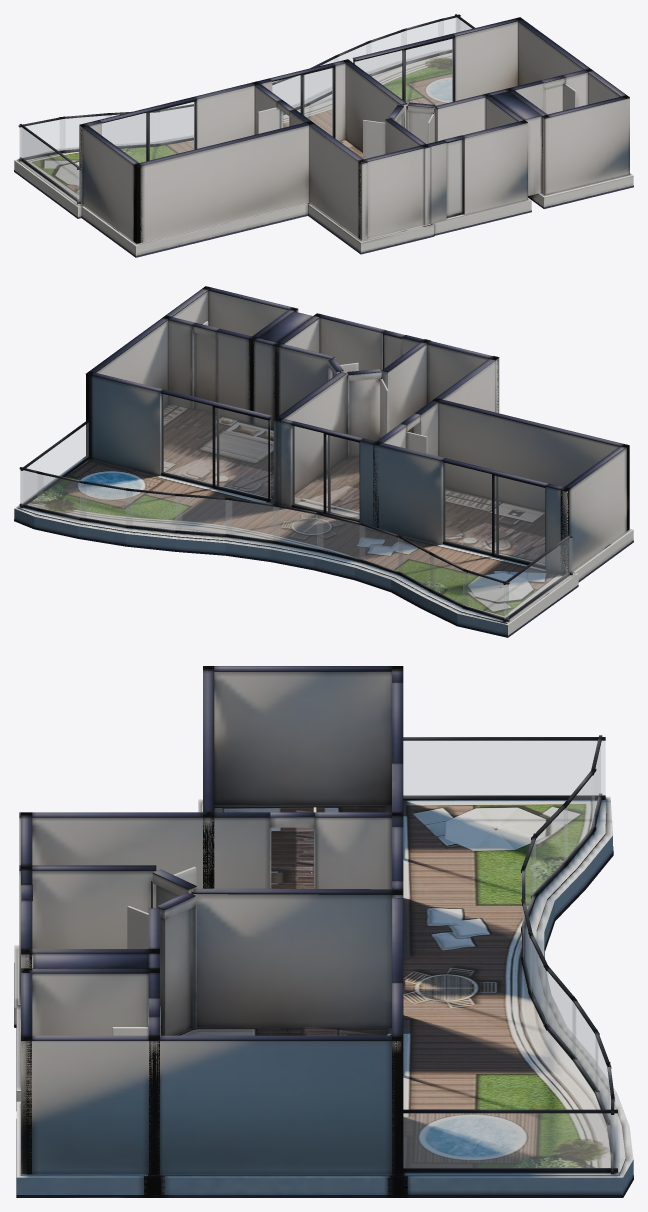
3 renders of one model, top to bottom at view 1: azimuth 30°, elevation 25°; view 2: azimuth 150°, elevation 25°; view 3: azimuth 270°, elevation 25°, orthographic. The views are drawn at different scales.
Visible parts, largest first — view 1: plan, glass2_m, glass0_m, glass1_m, railg14_m, railg0_m, railg2_m, railg3_m, glass3_m, railg12_m, railg11_m, railg1_m (+4 smaller); view 2: plan, glass2_m, glass0_m, glass1_m, railg14_m, railg13_m, railg9_m, railg10_m, railg8_m, railg11_m, railg7_m, railg12_m (+6 smaller); view 3: plan, railg13_m, railg14_m, railg2_m, railg1_m, railg9_m, railg10_m, railg8_m.
Boxes of the visible parts, box(x1,y1,x2,y2) form: plan: box(14, 14, 633, 257); glass2_m: box(354, 39, 452, 105); glass0_m: box(102, 102, 194, 162); glass1_m: box(272, 68, 332, 136); railg14_m: box(20, 127, 81, 201); railg0_m: box(19, 119, 64, 158); railg2_m: box(106, 113, 158, 145); railg3_m: box(154, 107, 193, 143); glass3_m: box(447, 140, 461, 215); railg12_m: box(401, 21, 443, 61); railg11_m: box(366, 31, 406, 73); railg1_m: box(60, 115, 111, 150); plan: box(14, 286, 633, 637); glass2_m: box(161, 394, 270, 498); glass0_m: box(443, 463, 544, 565); glass1_m: box(292, 426, 359, 520); railg14_m: box(504, 538, 570, 619); railg13_m: box(21, 423, 88, 504); railg9_m: box(175, 496, 231, 534); railg10_m: box(126, 491, 181, 530); railg8_m: box(226, 500, 279, 541); railg11_m: box(80, 483, 132, 525); railg7_m: box(273, 506, 322, 549); railg12_m: box(37, 474, 86, 518); plan: box(14, 666, 633, 1197); railg13_m: box(403, 1113, 617, 1168); railg14_m: box(403, 741, 605, 795); railg2_m: box(533, 806, 567, 894); railg1_m: box(564, 773, 594, 863); railg9_m: box(545, 969, 575, 1057); railg10_m: box(572, 1002, 597, 1090); railg8_m: box(530, 939, 547, 1025).
Size of the model in its own units: 13.81 by 2.62 by 9.48.
Materials: 2 (1 with a texture image).
